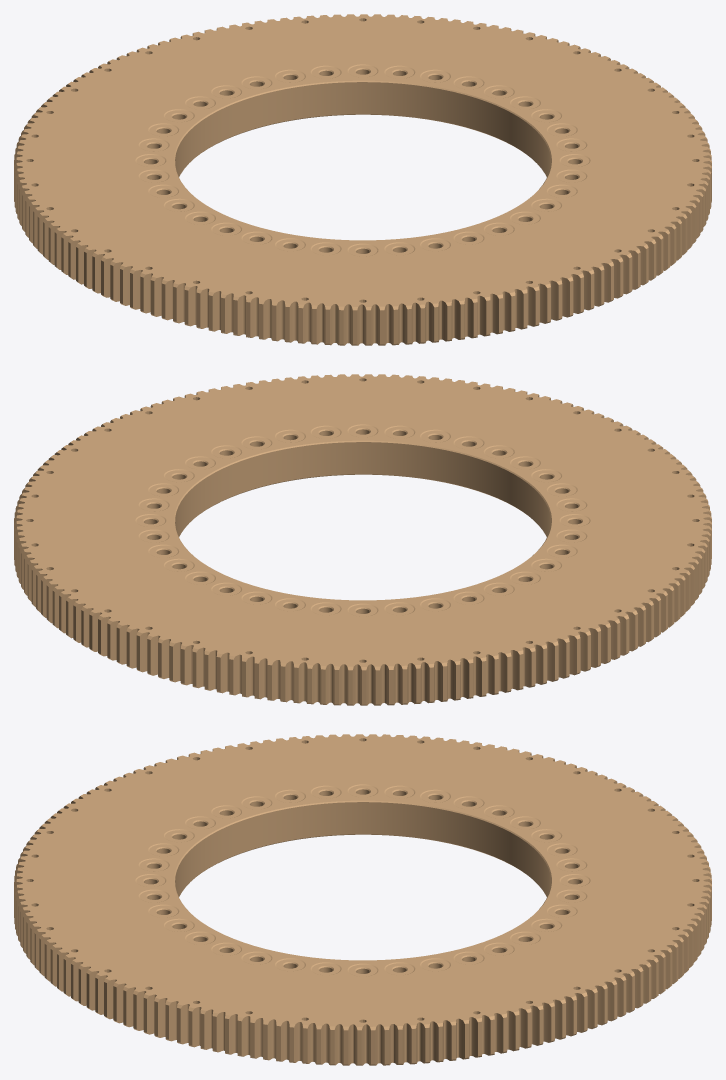
The model's file is Gear.FBX.
3 renders of one model, top to bottom at view 1: azimuth 30°, elevation 25°; view 2: azimuth 150°, elevation 25°; view 3: azimuth 270°, elevation 25°, orthographic.
Visible parts, largest first — view 1: Gear; view 2: Gear; view 3: Gear.
Part boxes in pixels (<box>): Gear: <box>14,14,711,345</box>; Gear: <box>14,374,711,705</box>; Gear: <box>14,734,711,1065</box>.
Size of the model in its own units: 127 by 7.84 by 127.
